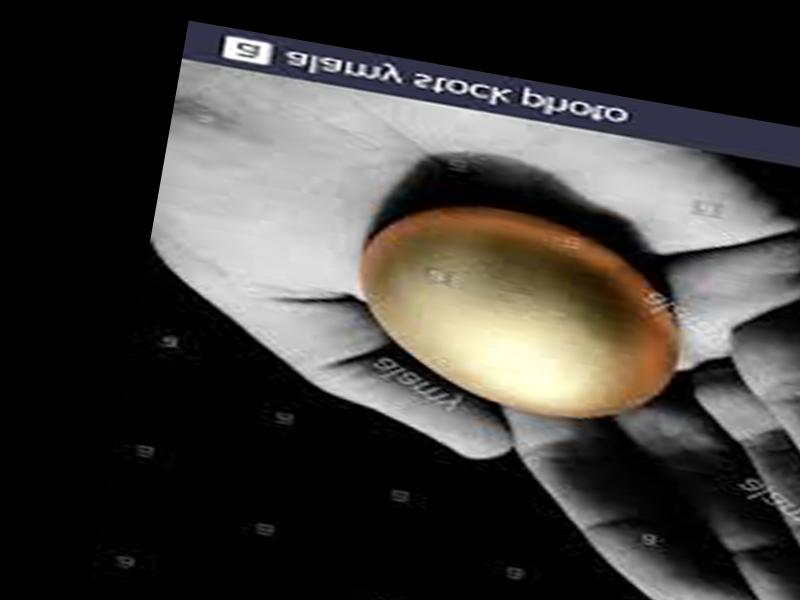Eggs: (345, 191, 698, 435)
